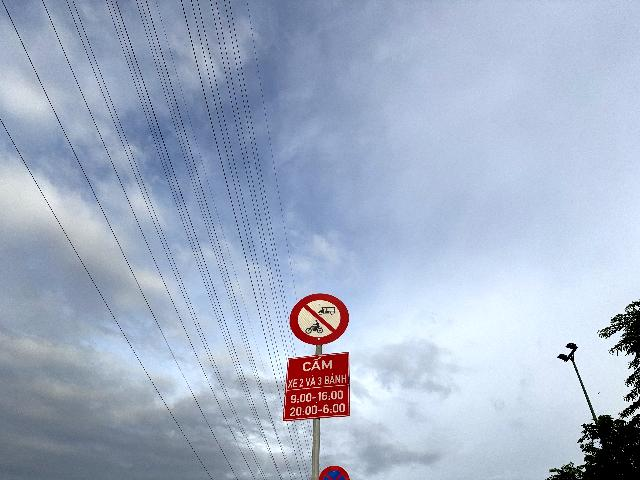cam-xe-2-banh-3-banh: (289, 292, 349, 345)
